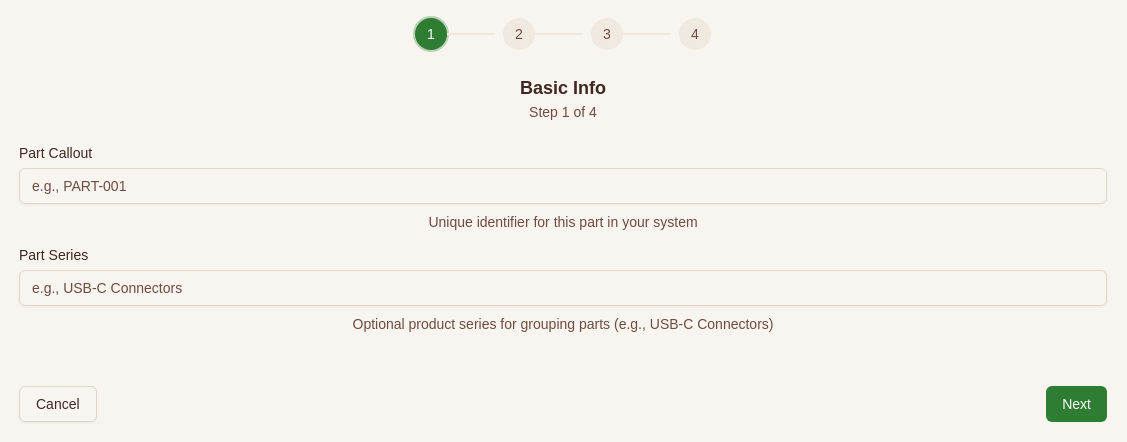
Scenario: PartEntryWizard › step 1 validation › advances to step 2 with valid Part Callout
The image size is (1127, 442).
Type "TEST-001" into the field labelled "Part Callout" at coordinates (563, 186), box [19,168,1107,204]
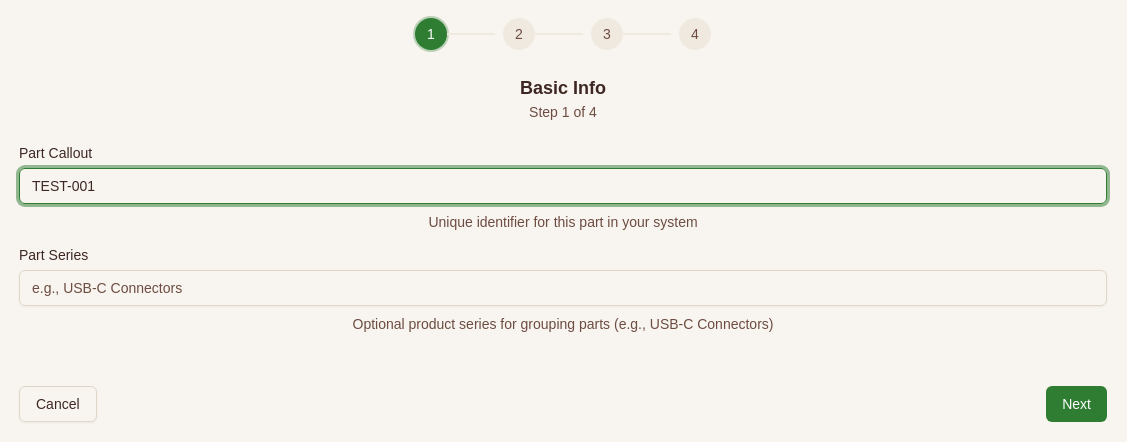
Click the button "Next" at coordinates (1077, 404), box [1046,386,1107,422]
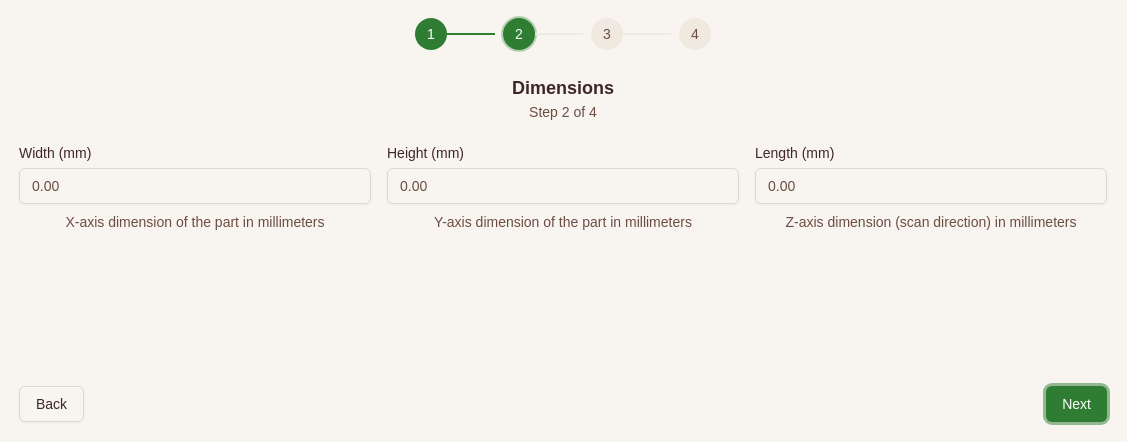
Expected: the text "Step 2 of 4" is shown, [529,104,597,120]
